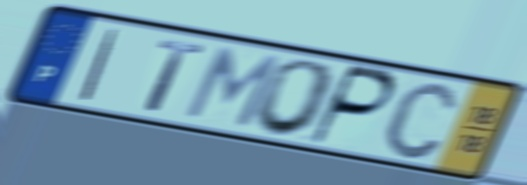C: (381, 78, 461, 162)
I: (76, 26, 123, 104)
M: (180, 44, 285, 132)
O: (249, 57, 339, 140)
P: (305, 62, 400, 149)
T: (141, 36, 209, 115)
